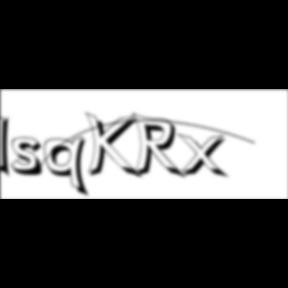I: (1, 110, 18, 182)
K: (86, 110, 144, 182)
R: (132, 112, 190, 182)
q: (44, 135, 94, 200)
s: (11, 137, 50, 179)
x: (178, 132, 233, 181)
